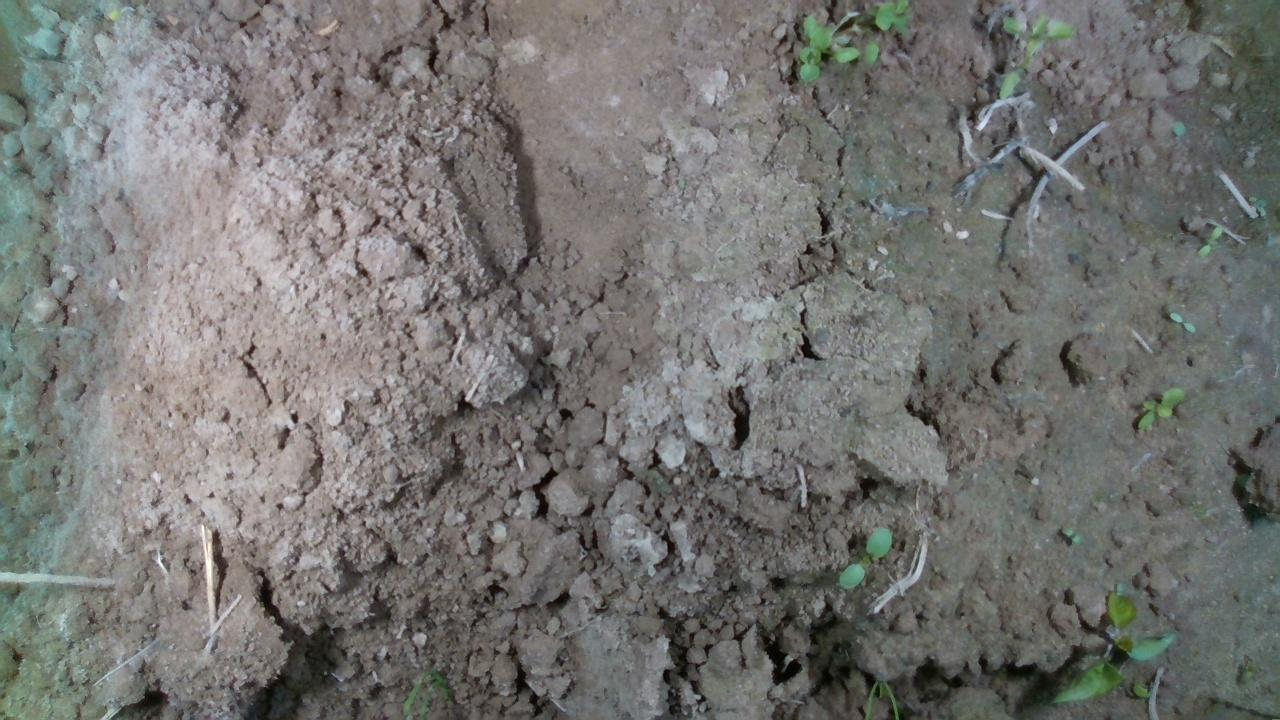weed: (1134, 385, 1186, 432), (1195, 224, 1223, 259)
